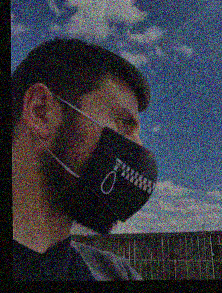with_mask: (64, 98, 157, 227)
